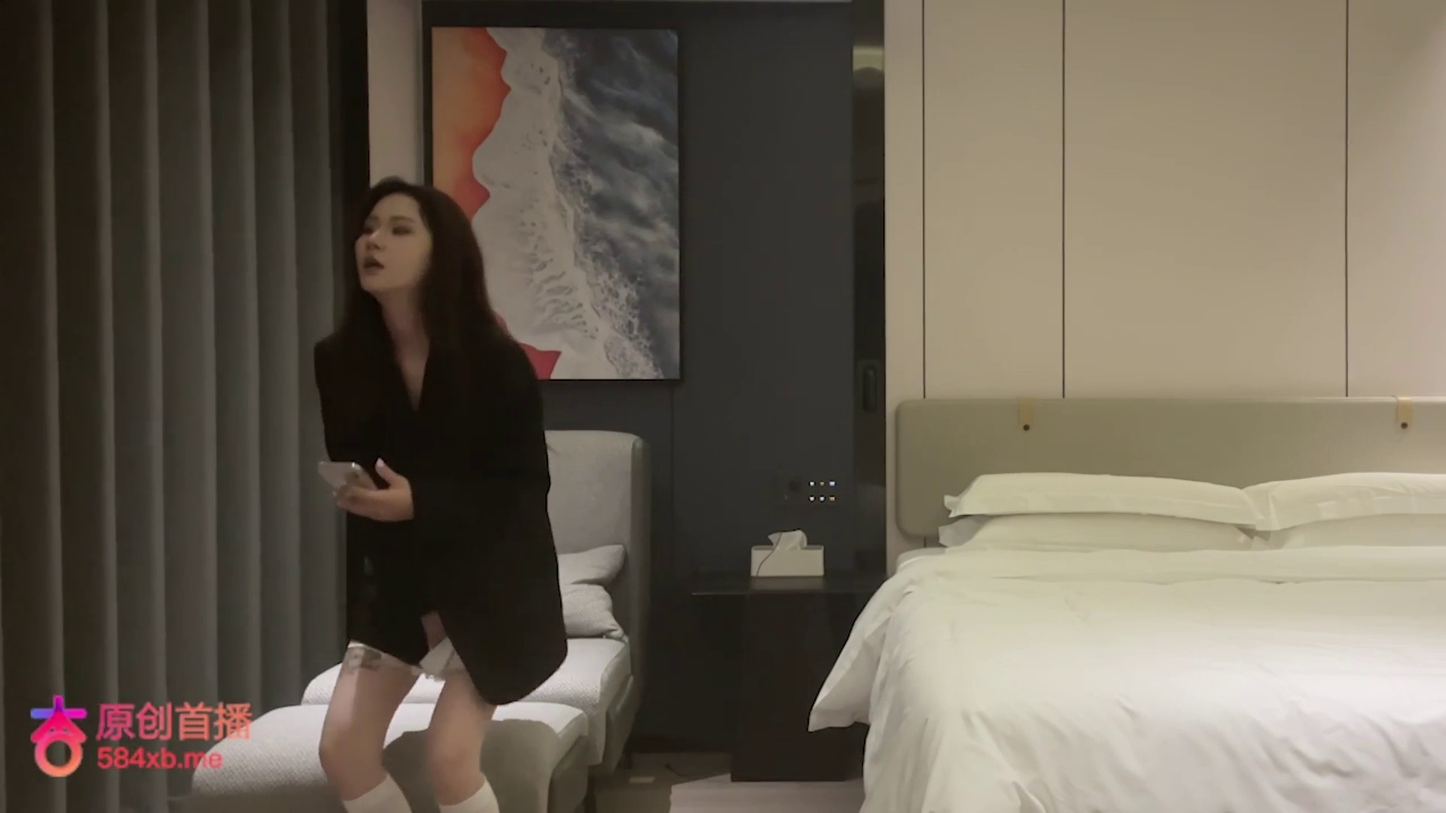squat: (310, 175, 568, 807)
